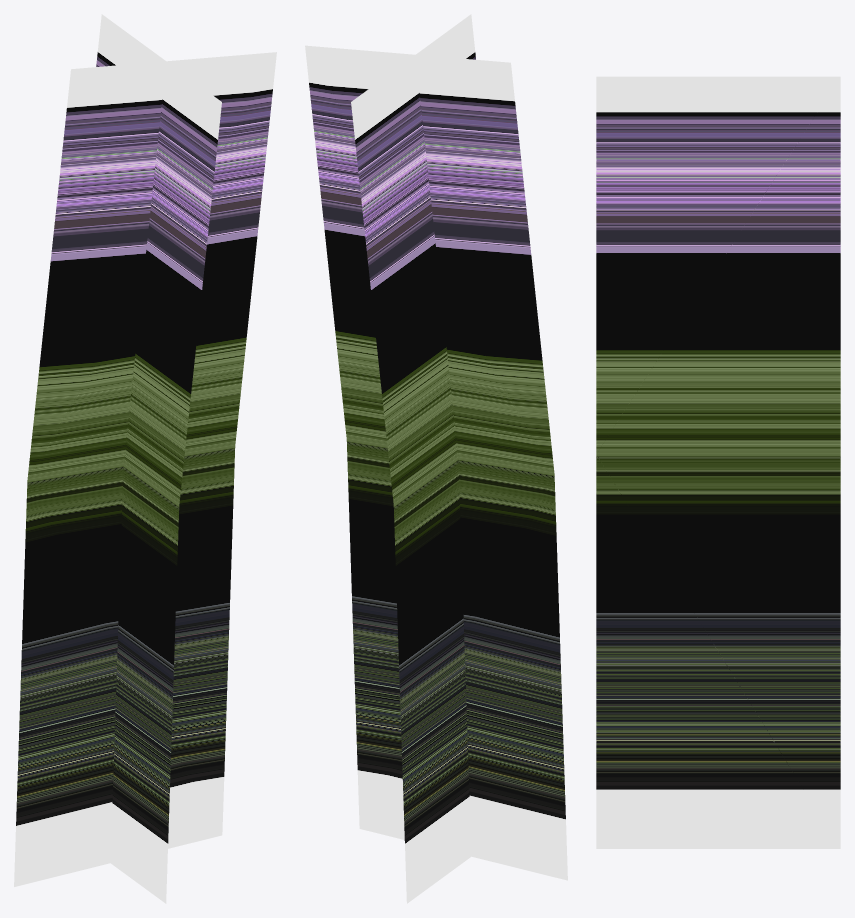
The model's file is SM_FOL_Flower_Tall_01_A.glb.
The picture shows the model from 3 angles, left to right: view 1: azimuth 30°, elevation 25°; view 2: azimuth 150°, elevation 25°; view 3: azimuth 270°, elevation 25°; orthographic projection.
Visible parts, largest first — view 1: SM_FOL_Flower_Tall_01_A; view 2: SM_FOL_Flower_Tall_01_A; view 3: SM_FOL_Flower_Tall_01_A.
Boxes of the visible parts, x1,y1,x2,y2 form: SM_FOL_Flower_Tall_01_A: (14,14,276,903); SM_FOL_Flower_Tall_01_A: (305,14,567,903); SM_FOL_Flower_Tall_01_A: (596,76,840,848).
Bounding box in the file's own units: 0.2357 × 0.6887 × 0.1868.
1 material, 1 textured.
